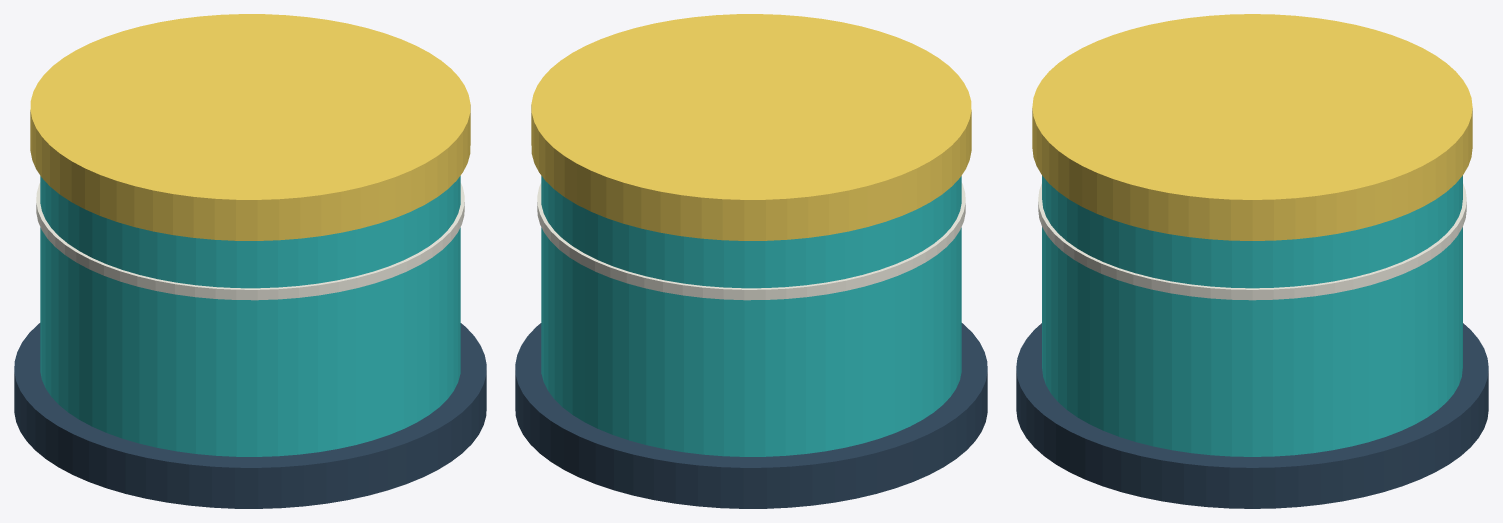
Rendered from party-obstacle-course-party-obstacle-course-stepping-d-de85e134__28930.glb.
3 renders of one model, left to right at view 1: azimuth 30°, elevation 25°; view 2: azimuth 150°, elevation 25°; view 3: azimuth 270°, elevation 25°, orthographic.
Parts seen in each view (by area): view 1: party-obstacle-course-stepping-drum; view 2: party-obstacle-course-stepping-drum; view 3: party-obstacle-course-stepping-drum.
Part boxes in pixels (left/top/right/bottom): party-obstacle-course-stepping-drum: left=14, top=14, right=486, bottom=508; party-obstacle-course-stepping-drum: left=515, top=14, right=987, bottom=508; party-obstacle-course-stepping-drum: left=1016, top=14, right=1488, bottom=508.
Bounding box in the file's own units: 1.46 × 1.03 × 1.46.
